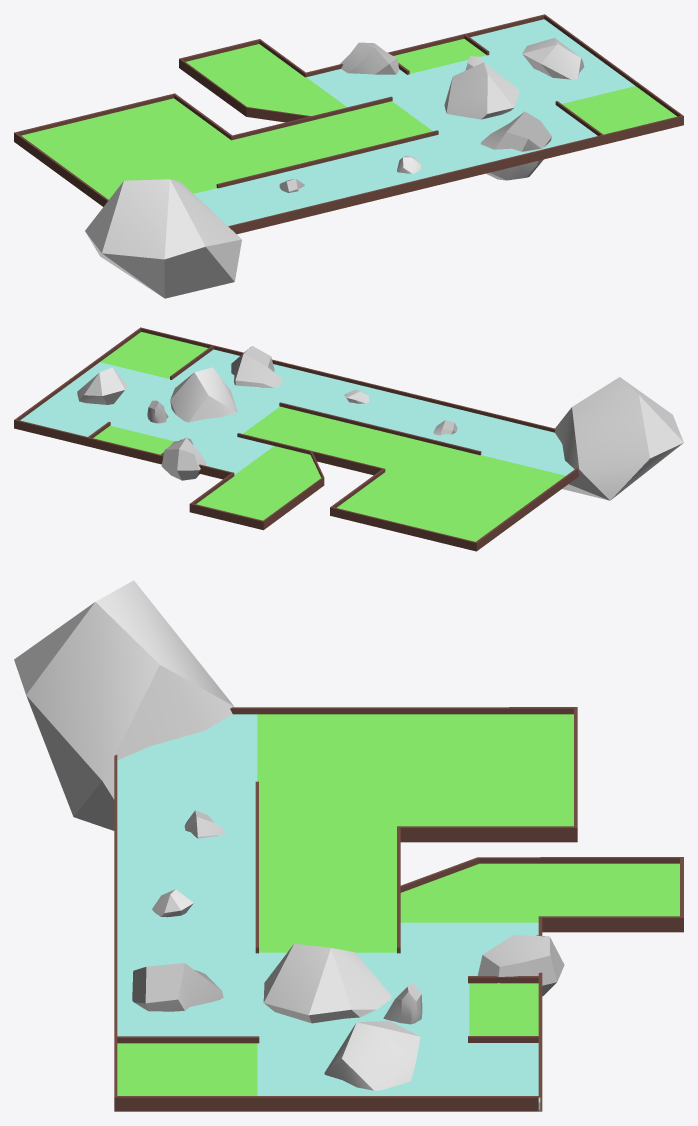
The picture shows the model from 3 angles, top to bottom: view 1: azimuth 30°, elevation 25°; view 2: azimuth 150°, elevation 25°; view 3: azimuth 270°, elevation 25°; orthographic projection. The views are drawn at different scales.
Parts seen in each view (by area): view 1: Cube.081, Cube.086, Cube.087, rock.334, rock.333, rock.332, rock.330, rock.329; view 2: Cube.081, Cube.086, Cube.087, rock.334, rock.333, rock.332, rock.329, rock.330, rock.331; view 3: Cube.081, Cube.086, rock.334, Cube.087, rock.333, rock.330, rock.332, rock.329, rock.331, rock.335.
Part boxes in pixels (bbox=[...]): Cube.081: bbox=[21, 39, 676, 199]; Cube.086: bbox=[194, 19, 634, 225]; Cube.087: bbox=[14, 14, 683, 234]; rock.334: bbox=[85, 179, 241, 298]; rock.333: bbox=[444, 62, 519, 119]; rock.332: bbox=[480, 111, 551, 180]; rock.330: bbox=[522, 38, 584, 79]; rock.329: bbox=[340, 42, 399, 74]; Cube.081: bbox=[93, 332, 565, 541]; Cube.086: bbox=[20, 349, 574, 475]; Cube.087: bbox=[14, 327, 578, 551]; rock.334: bbox=[555, 377, 683, 500]; rock.333: bbox=[170, 367, 237, 422]; rock.332: bbox=[231, 346, 282, 387]; rock.329: bbox=[161, 437, 206, 480]; rock.330: bbox=[77, 367, 127, 404]; rock.331: bbox=[147, 400, 168, 423]; Cube.081: bbox=[117, 714, 679, 1095]; Cube.086: bbox=[117, 714, 540, 1110]; rock.334: bbox=[14, 580, 234, 830]; Cube.087: bbox=[114, 707, 683, 1111]; rock.333: bbox=[263, 943, 391, 1023]; rock.330: bbox=[324, 1020, 420, 1090]; rock.332: bbox=[132, 963, 223, 1011]; rock.329: bbox=[477, 935, 564, 996]; rock.331: bbox=[383, 982, 422, 1024]; rock.335: bbox=[152, 889, 193, 917].
Bounding box in the file's own units: 2961 × 598 × 1893.
